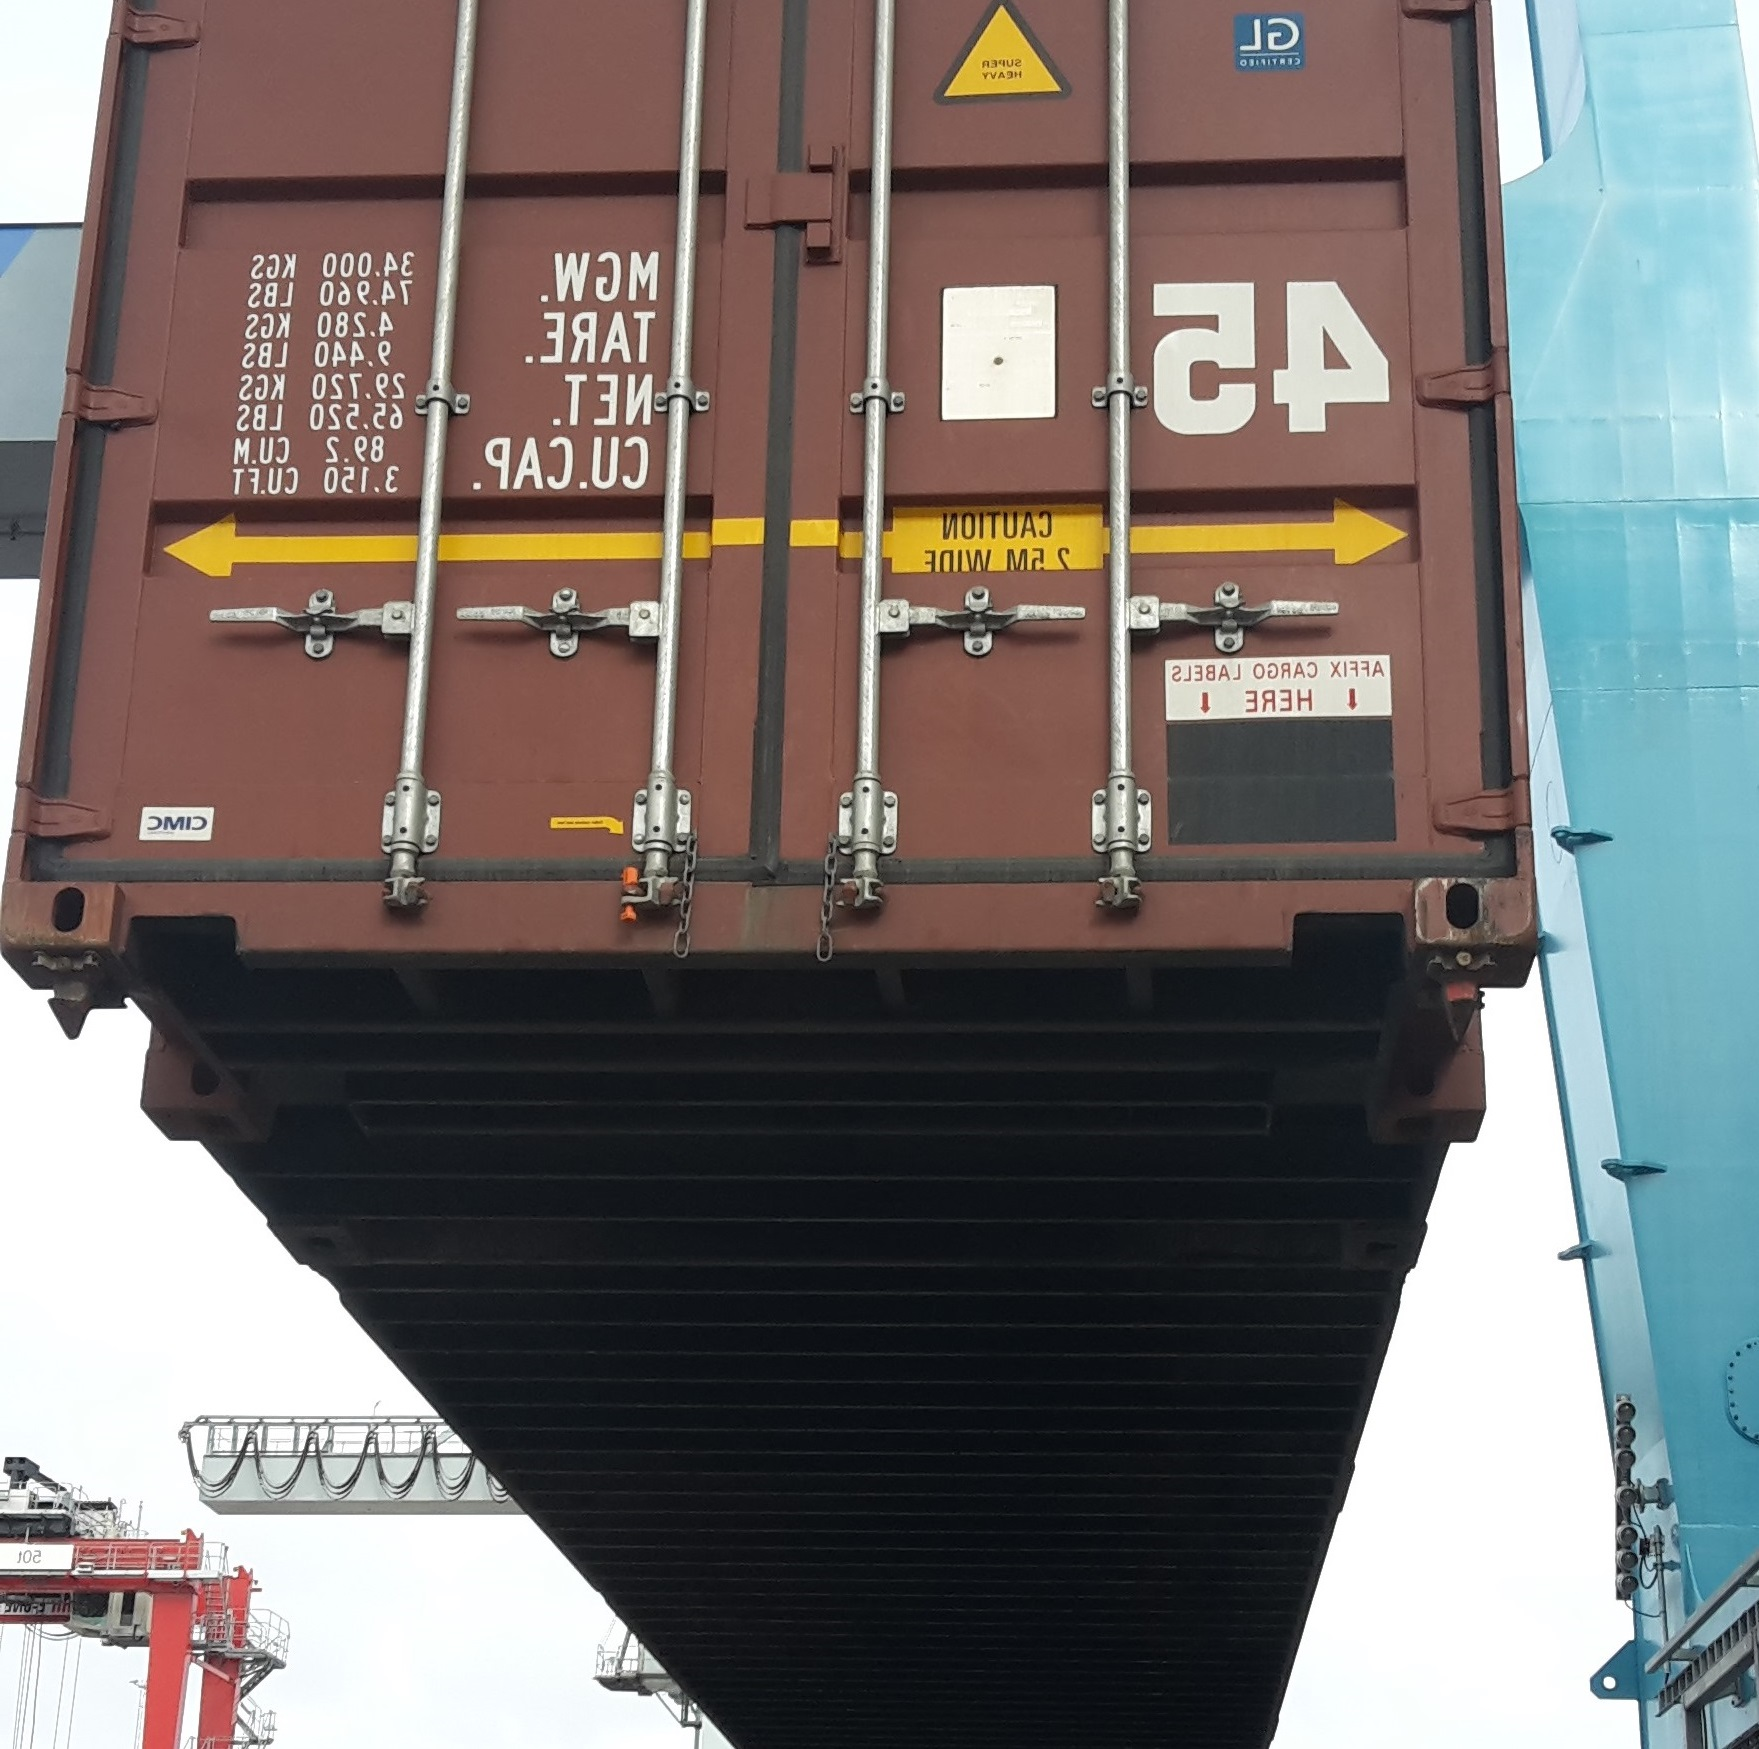container_door: (3, 3, 1538, 947)
